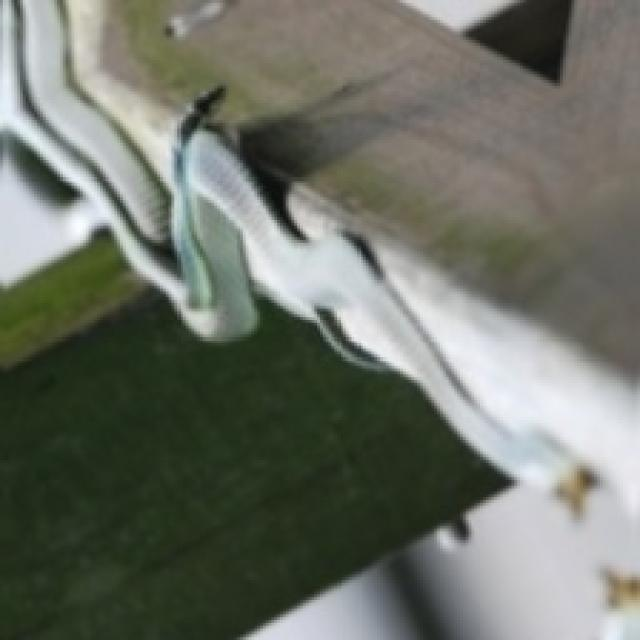paradise tree snake: (0, 0, 637, 637), (249, 571, 411, 637)
